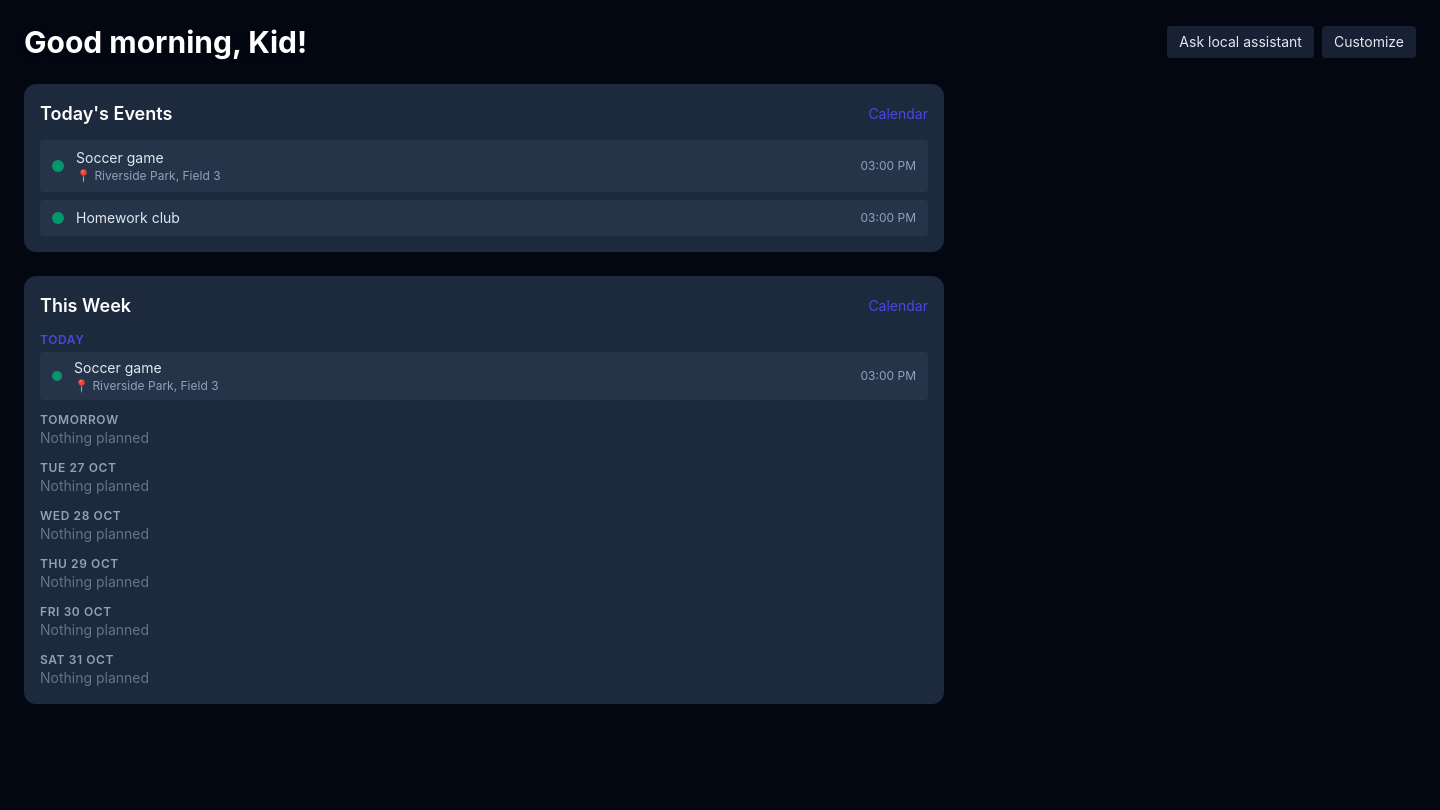
Scenario: events on Home › show where they are and open their details
The image size is (1440, 810).
Expected: the text "Riverside Park, Field 3" below "Today's Events" is shown, [94,168,221,183]
Expected: the 2nd text "Riverside Park, Field 3" is shown, [92,378,219,393]
Click the button with aria-label "Details: Soccer game": x=120, y=158 [40,140,928,192]
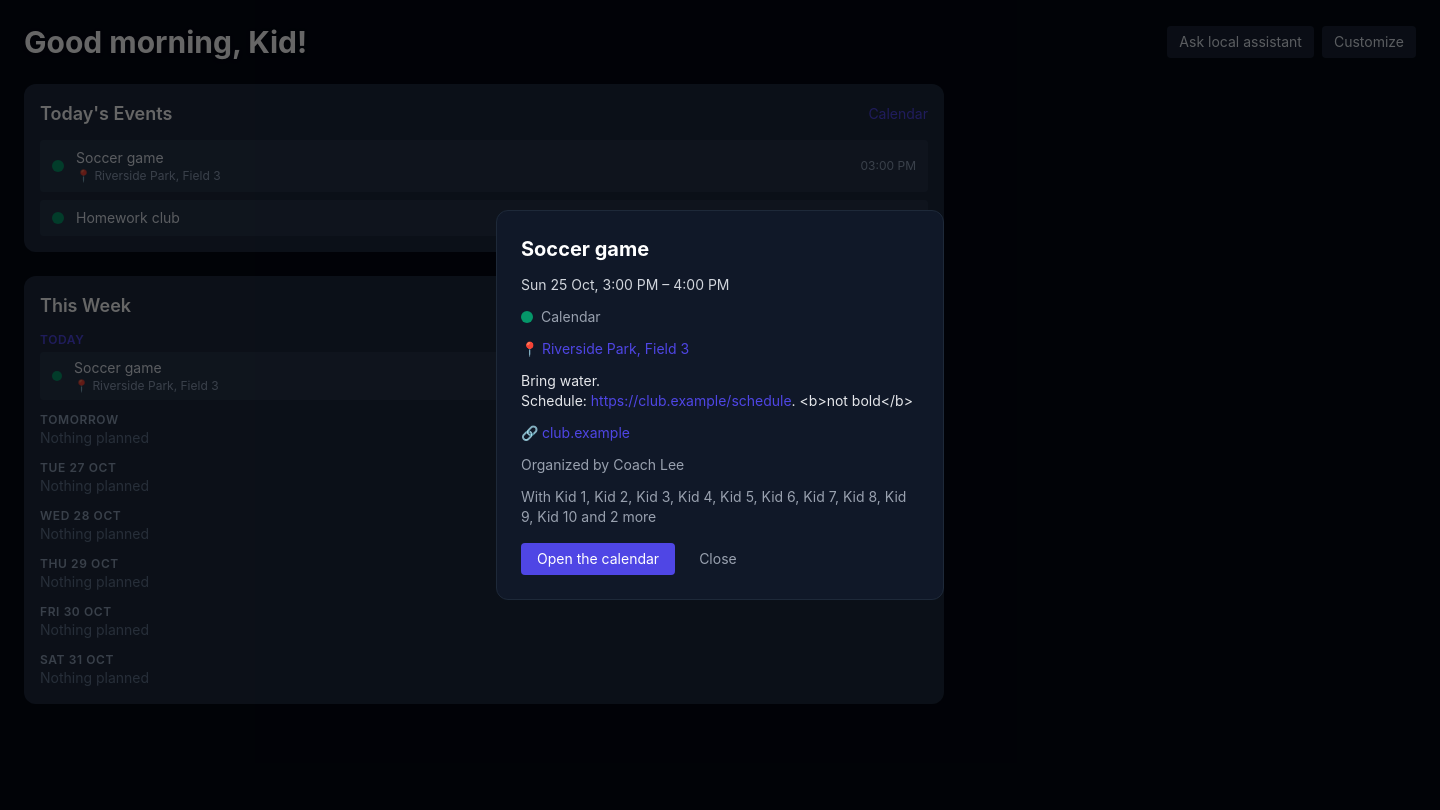
Expected: the text "Organized by Coach Lee" is shown, [521,456,684,473]
Click the button "Close": x=718, y=559 [683,543,753,575]
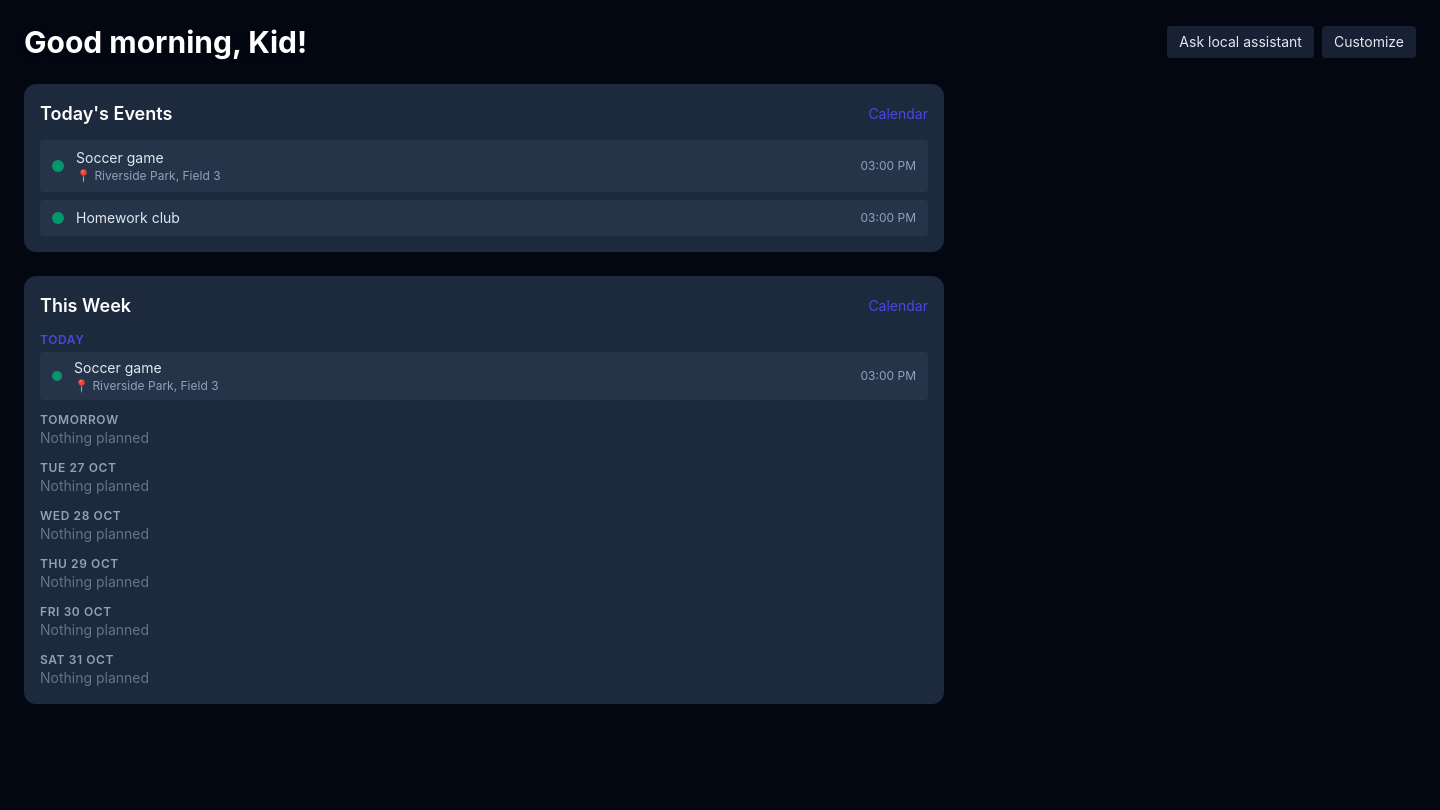
Expected: the dialog is gone
